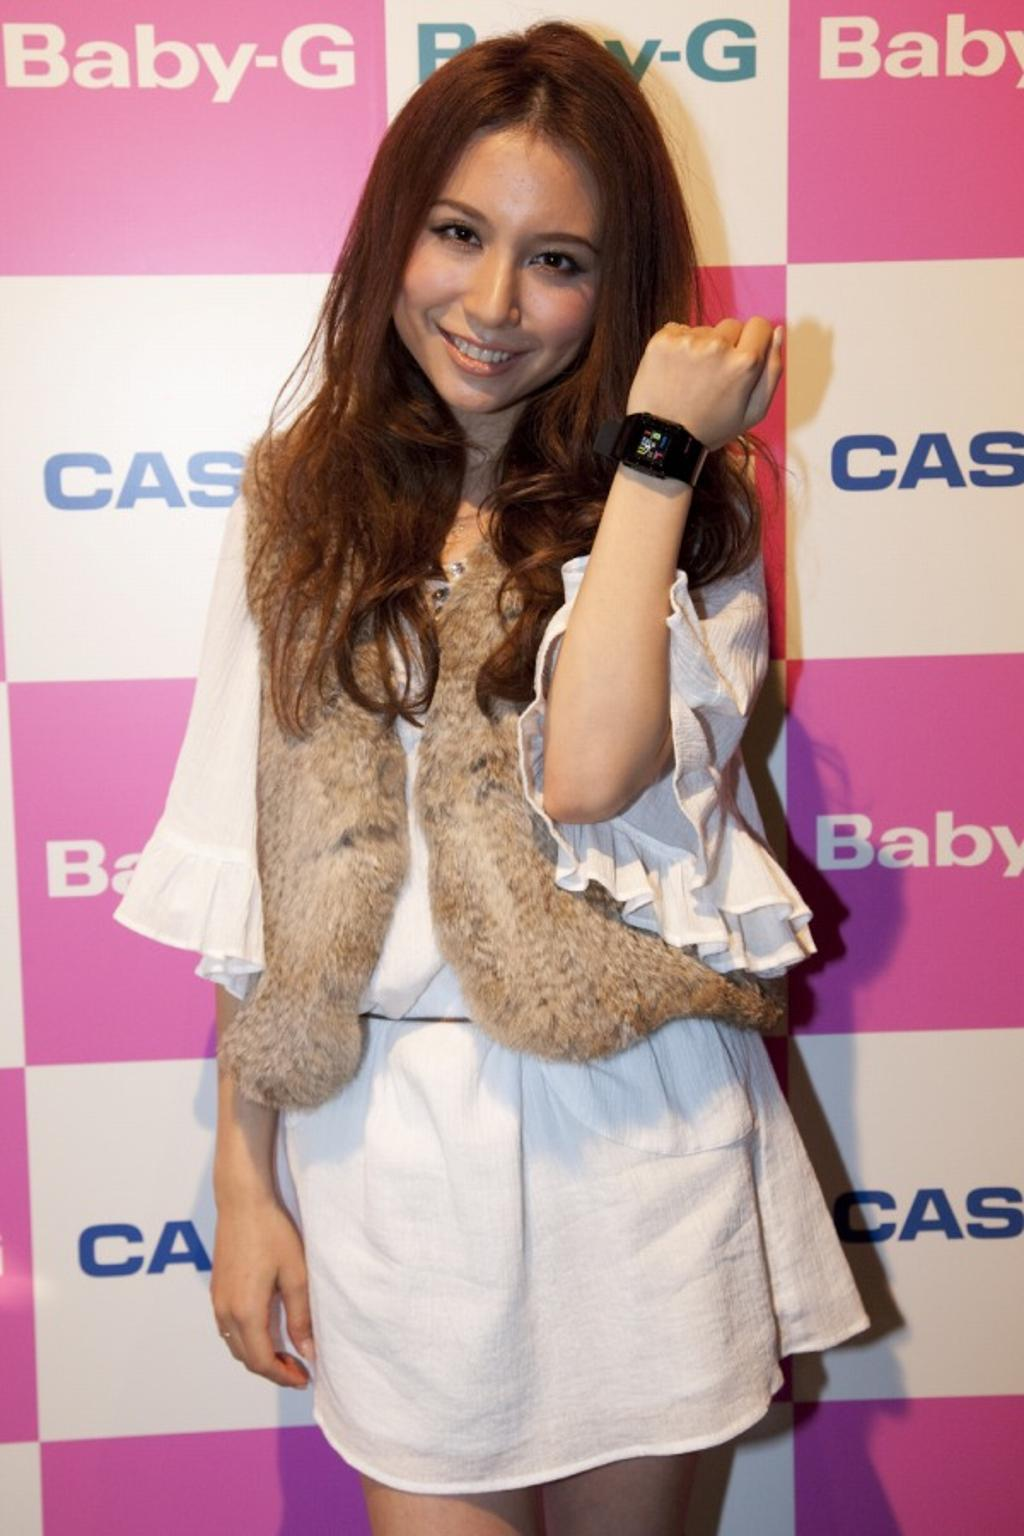face: (391, 127, 610, 409)
